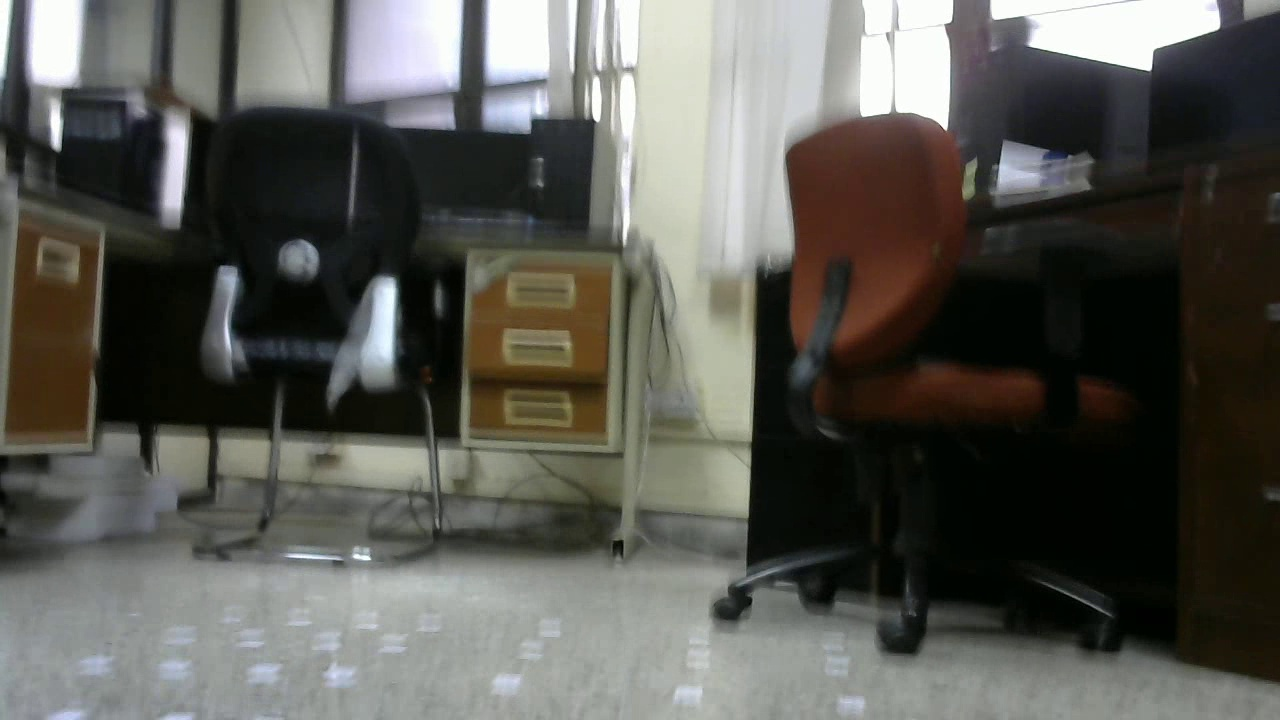chair: (707, 108, 1132, 657), (189, 102, 450, 562)
